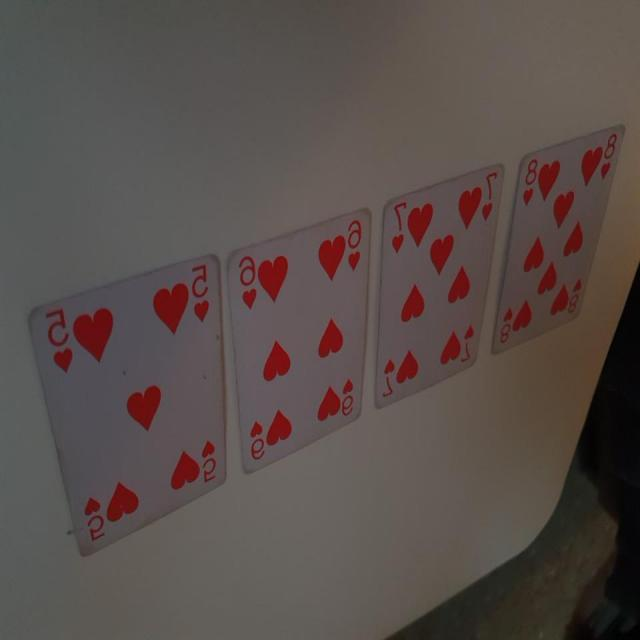5 of hearts: (21, 252, 240, 572)
6 of hearts: (224, 198, 374, 486)
7 of hearts: (374, 154, 507, 418)
8 of hearts: (488, 108, 628, 366)
